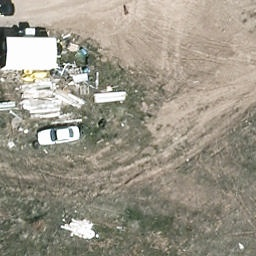car: (36, 126, 82, 148), (0, 0, 14, 17)
